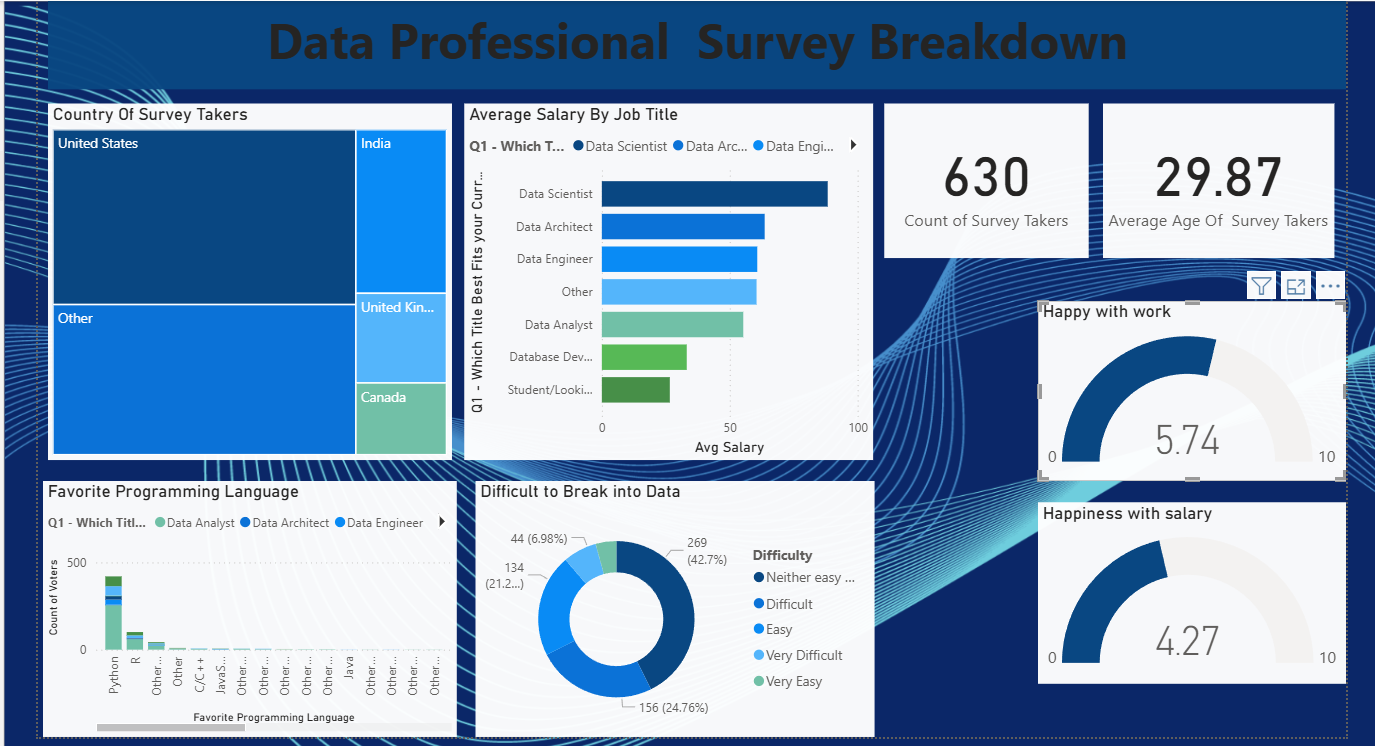

The page's visual inventory and layout, read from the dashboard file:
{"tool":"powerbi","page":{"name":"Page 1","canvas":[1280,720],"ordinal":0},"visuals":[{"type":"textbox","box":[9.6,0,1270.7,86.4],"z":0},{"type":"card","fields":{"Values":["Count(Data Professional Survey.Unique ID)"]},"box":[827.5,100,200,151.2],"z":1000},{"type":"card","fields":{"Values":["Avg(Data Professional Survey.Q10 - Current Age)"]},"box":[1041.2,100,226.2,151.2],"z":2000},{"type":"barChart","title":"Average Salary By Job Title","fields":{"Category":["Data Professional Survey.Q1 - Which Title Best Fits your Current Role?.1"],"Y":["Avg(Data Professional Survey.Avg Salary)"],"Series":["Data Professional Survey.Q1 - Which Title Best Fits your Current Role?.1"]},"box":[417.5,100,400,348.8],"z":3000},{"type":"columnChart","title":"Favorite Programming Language","fields":{"Category":["Data Professional Survey.Q5 - Favorite Programming Language"],"Y":["CountNonNull(Data Professional Survey.Unique ID)"],"Series":["Data Professional Survey.Q1 - Which Title Best Fits your Current Role?.1"]},"box":[5,470,405,250],"z":4000},{"type":"treemap","title":"Country Of Survey Takers","fields":{"Group":["Data Professional Survey.Q11 - Which Country do you live in?.1"],"Values":["CountNonNull(Data Professional Survey.Q11 - Which Country do you live in?.1)"]},"box":[10,100,395,348.8],"z":5000},{"type":"gauge","title":"Happiness with salary","fields":{"Y":["Avg(Data Professional Survey.Q6 - How Happy are you in your Current Position with the following? (Salary))"],"MinValue":["Min(Data Professional Survey.Q6 - How Happy are you in your Current Position with the following? (Salary))"],"MaxValue":["Max(Data Professional Survey.Q6 - How Happy are you in your Current Position with the following? (Salary))"]},"box":[978.3,490.4,302,177.3],"z":6000},{"type":"gauge","title":"Happy with work","fields":{"Y":["Avg(Data Professional Survey.Q6 - How Happy are you in your Current Position with the following? (Work/Life Balance))"],"MinValue":["Min(Data Professional Survey.Q6 - How Happy are you in your Current Position with the following? (Work/Life Balance))"],"MaxValue":["Max(Data Professional Survey.Q6 - How Happy are you in your Current Position with the following? (Work/Life Balance))"]},"box":[978.8,293.8,301.2,176.2],"z":7000},{"type":"donutChart","title":"Difficult to Break into Data","fields":{"Category":["Data Professional Survey.Q7 - How difficult was it for you to break into Data?"],"Y":["CountNonNull(Data Professional Survey.Q7 - How difficult was it for you to break into Data?)"]},"box":[427.5,470,390,250],"z":8000}]}

Visuals, with their boxes in screenshot pixels (x1, y1, x2, y2):
textbox: BBox(46, 0, 1342, 88)
card - Count(Data Professional Survey.Unique ID): BBox(880, 102, 1084, 256)
card - Avg(Data Professional Survey.Q10 - Current Age): BBox(1098, 102, 1329, 256)
"Average Salary By Job Title" barChart: BBox(462, 102, 870, 458)
"Favorite Programming Language" columnChart: BBox(41, 479, 454, 734)
"Country Of Survey Takers" treemap: BBox(46, 102, 449, 458)
"Happiness with salary" gauge: BBox(1034, 500, 1342, 681)
"Happy with work" gauge: BBox(1034, 300, 1342, 479)
"Difficult to Break into Data" donutChart: BBox(472, 479, 870, 734)
